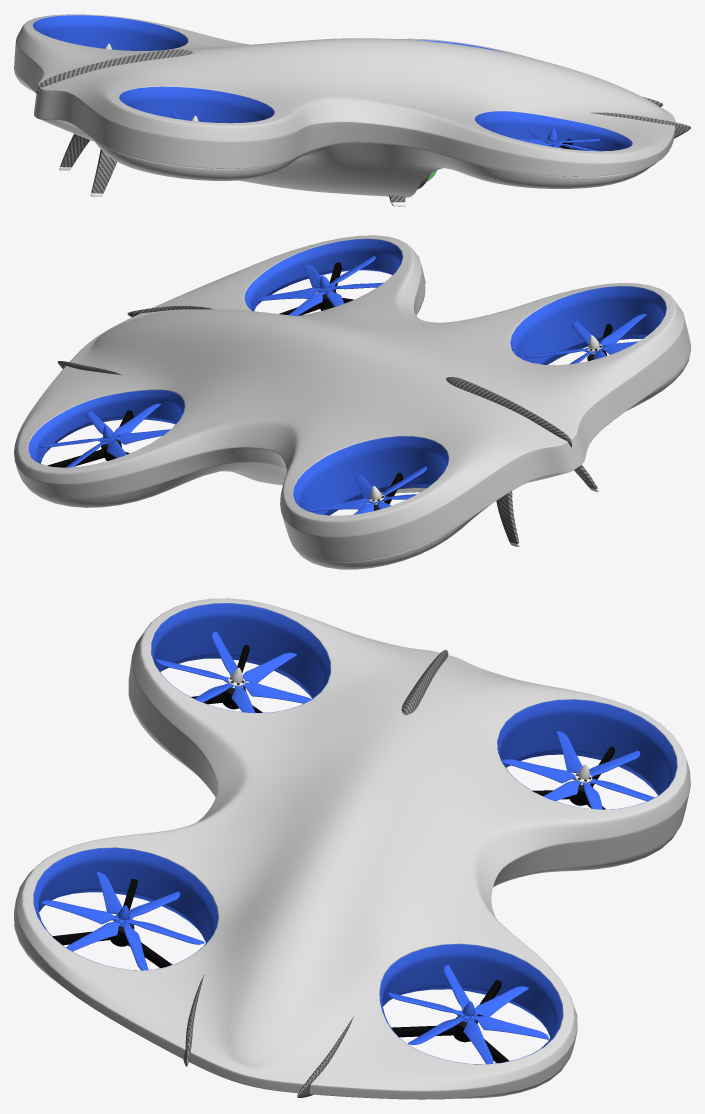
Rendered from drone_compressed.glb.
3 views of the same model, one above another, from view 1: azimuth 30°, elevation 25°; view 2: azimuth 150°, elevation 25°; view 3: azimuth 270°, elevation 25° (orthographic). The views are drawn at different scales.
Visible parts, largest first — view 1: Drone Body_Top Metal, Drone Body_Bottom Plastic, Drone Body_Rotor Encasing Plastic, Drone Parts_Fins and Stands, Rotor_CW_01; view 2: Drone Body_Top Metal, Drone Body_Rotor Encasing Plastic, Drone Body_Bottom Plastic, Drone Parts_Fins and Stands, Rotor_CCW_01, Rotor_CW_01, Rotor_CW_02, Rotor_CCW_02, Rotor_CCW_01 Mount, Rotor_CW_01 Mount; view 3: Drone Body_Top Metal, Drone Body_Rotor Encasing Plastic, Rotor_CW_01, Rotor_CCW_01, Rotor_CCW_02, Rotor_CW_02, Drone Parts_Fins and Stands, Drone Body_Bottom Plastic, Rotor_CCW_01 Mount, Rotor_CW_01 Mount.
Boxes of the visible parts, x1=… form: Drone Body_Top Metal: x1=14, y1=14, x2=675, y2=176; Drone Body_Bottom Plastic: x1=14, y1=71, x2=655, y2=197; Drone Body_Rotor Encasing Plastic: x1=33, y1=15, x2=632, y2=151; Drone Parts_Fins and Stands: x1=36, y1=49, x2=690, y2=206; Rotor_CW_01: x1=510, y1=128, x2=600, y2=151; Drone Body_Top Metal: x1=14, y1=235, x2=690, y2=561; Drone Body_Rotor Encasing Plastic: x1=28, y1=239, x2=666, y2=515; Drone Body_Bottom Plastic: x1=22, y1=282, x2=690, y2=569; Drone Parts_Fins and Stands: x1=57, y1=306, x2=598, y2=546; Rotor_CCW_01: x1=39, y1=403, x2=170, y2=467; Rotor_CW_01: x1=255, y1=256, x2=383, y2=316; Rotor_CW_02: x1=307, y1=466, x2=426, y2=514; Rotor_CCW_02: x1=525, y1=314, x2=646, y2=364; Rotor_CCW_01 Mount: x1=47, y1=410, x2=133, y2=467; Rotor_CW_01 Mount: x1=279, y1=262, x2=353, y2=315; Drone Body_Top Metal: x1=14, y1=598, x2=690, y2=1099; Drone Body_Rotor Encasing Plastic: x1=33, y1=603, x2=676, y2=1064; Rotor_CW_01: x1=41, y1=872, x2=204, y2=970; Rotor_CCW_01: x1=387, y1=965, x2=549, y2=1064; Rotor_CCW_02: x1=155, y1=631, x2=311, y2=712; Rotor_CW_02: x1=502, y1=731, x2=654, y2=809; Drone Parts_Fins and Stands: x1=183, y1=649, x2=448, y2=1097; Drone Body_Bottom Plastic: x1=14, y1=694, x2=681, y2=1098; Rotor_CCW_01 Mount: x1=391, y1=980, x2=509, y2=1062; Rotor_CW_01 Mount: x1=53, y1=878, x2=171, y2=967.
Size of the model in its own units: 16.92 by 5.44 by 14.77.
Materials: 11 (1 with a texture image).
